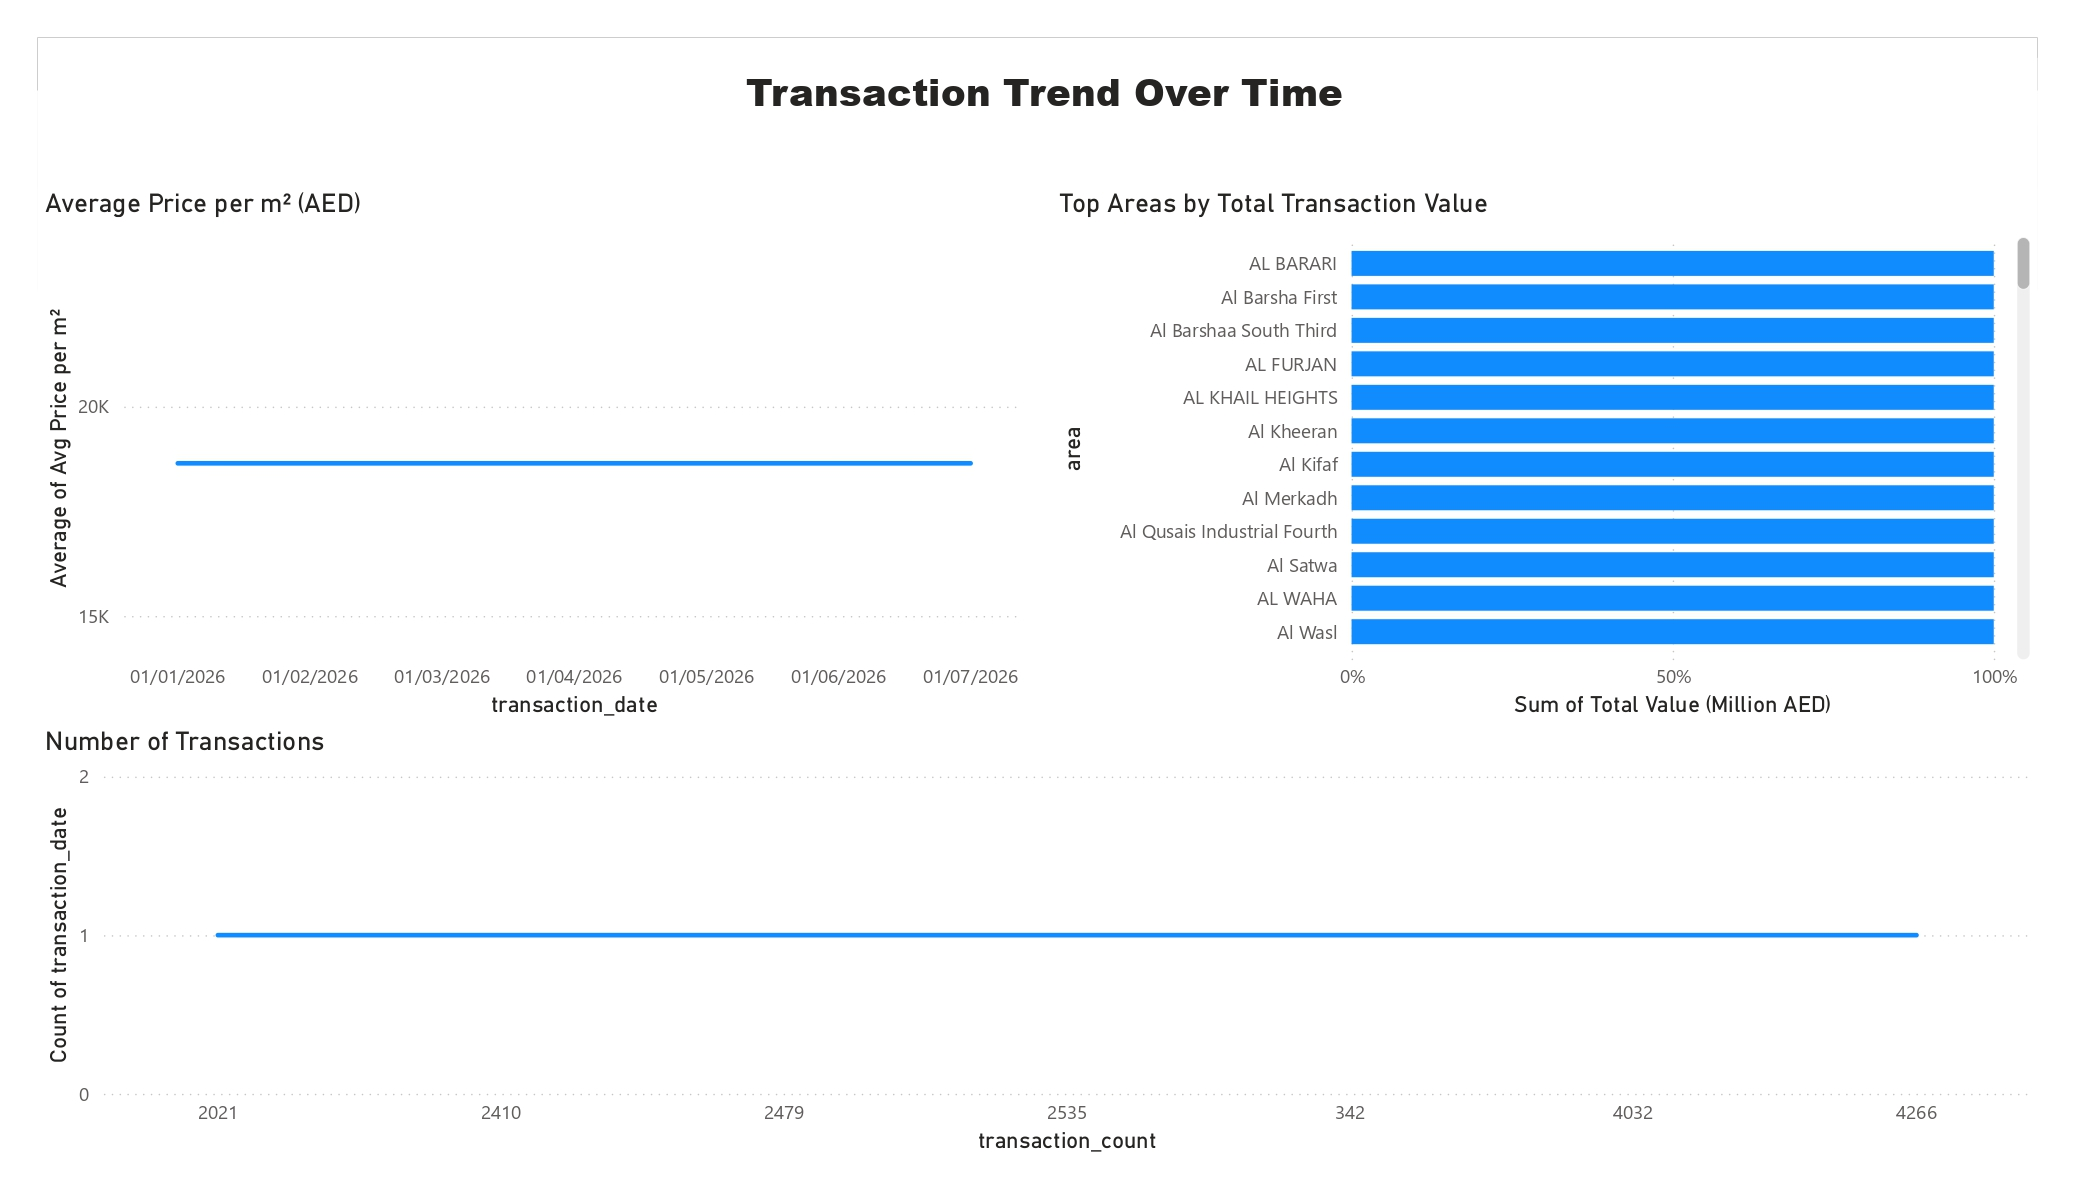

What the dashboard file says about the page in this screenshot:
{"tool":"powerbi","page":{"name":"4: Monthly Trend & Performance","canvas":[1280,720],"ordinal":3},"visuals":[{"type":"lineChart","title":"Number of Transactions","fields":{"Y":["CountNonNull(05_Monthly_Trend.transaction_date)"],"Category":["05_Monthly_Trend.transaction_count"]},"box":[0,439.5,1280,279.5],"z":0},{"type":"lineChart","title":"Average Price per m² (AED)","fields":{"Y":["Avg(01_Overview_Summary.Avg Price per m²)"],"Category":["05_Monthly_Trend.transaction_date"]},"box":[0,95.6,640,343.9],"z":1},{"type":"hundredPercentStackedBarChart","title":"Top Areas by Total Transaction Value","fields":{"Category":["02_Price_By_Area.area"],"Y":["Sum(01_Overview_Summary.Total Value (Million AED))"]},"box":[649.2,95.6,630.8,343.9],"z":2},{"type":"textbox","box":[9.2,12.9,1270.8,44.1],"z":3}]}

Visuals, with their boxes on the page's 1280x720 design canvas (x1, y1, x2, y2). These are canvas units, not pixel positions in the 2075x1200 screenshot, which may show the page scaled, cropped or inside an application window:
"Number of Transactions" lineChart: rect(0, 440, 1280, 719)
"Average Price per m² (AED)" lineChart: rect(0, 96, 640, 440)
"Top Areas by Total Transaction Value" hundredPercentStackedBarChart: rect(649, 96, 1280, 440)
textbox: rect(9, 13, 1280, 57)
